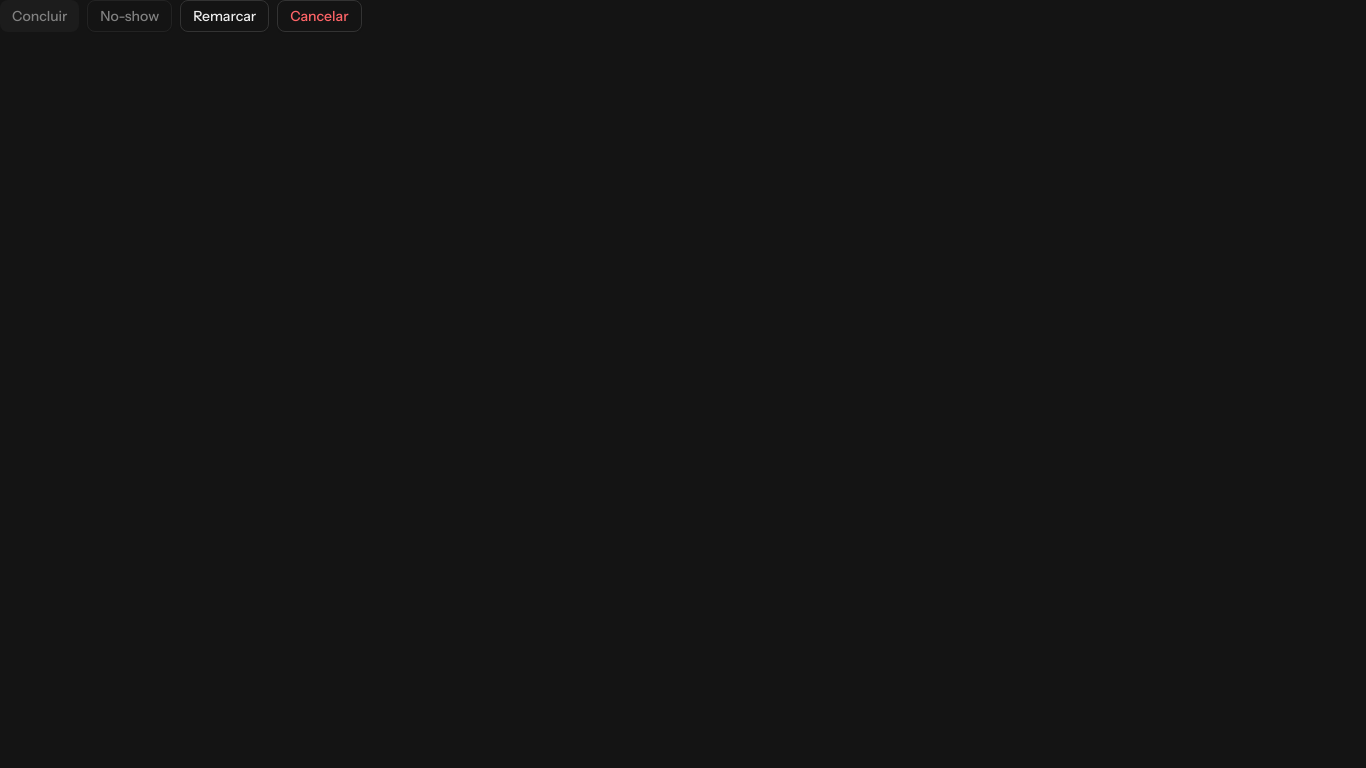
Test: StatusAction › names the reserva and warns about the e-mail before cancelling (#149)
Click the button "Cancelar".
click(319, 16)  # box left=277, top=0, right=362, bottom=32
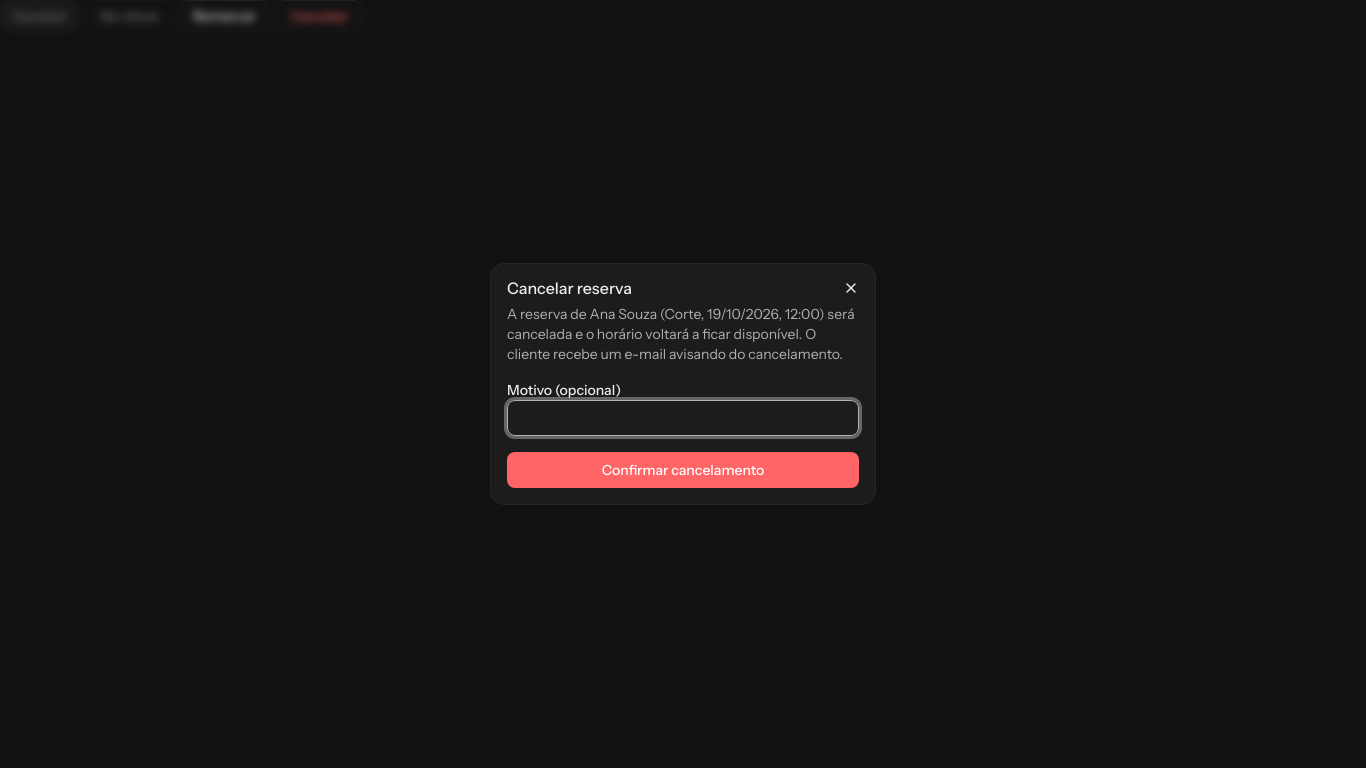
Check: the dialog shows "A reserva de Ana Souza (Corte, 19/10/2026, 12:00) será cancelada", box left=507, top=305, right=855, bottom=343
Check: the dialog shows "O cliente recebe um e-mail avisando do cancelamento.", box left=507, top=325, right=843, bottom=363
